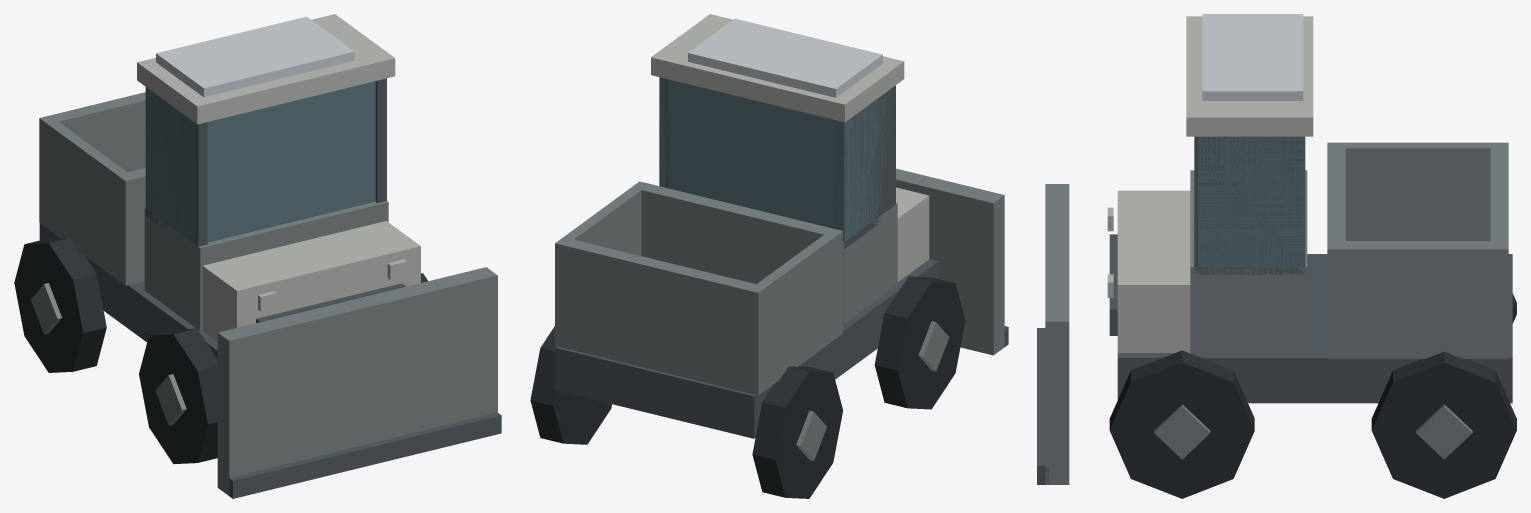
The model's file is snowplow_truck.glb.
The picture shows the model from 3 angles, left to right: view 1: azimuth 30°, elevation 25°; view 2: azimuth 150°, elevation 25°; view 3: azimuth 270°, elevation 25°; orthographic projection. The views are drawn at different scales.
Parts seen in each view (by area): view 1: snowplow_truck; view 2: snowplow_truck; view 3: snowplow_truck.
Boxes of the visible parts, x1,y1,x2,y2 form: snowplow_truck: (14, 14, 501, 498); snowplow_truck: (530, 14, 1008, 498); snowplow_truck: (1037, 14, 1516, 498).
Bounding box in the file's own units: 1.96 × 2.5 × 2.88.
